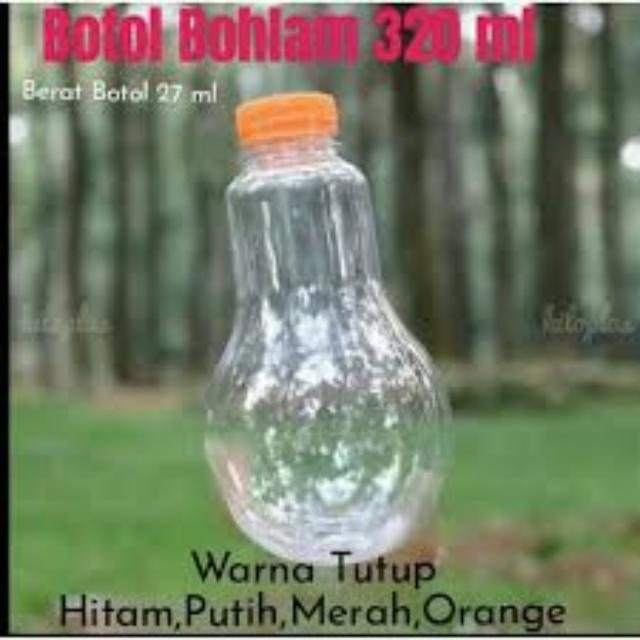trash: (202, 90, 458, 568)
